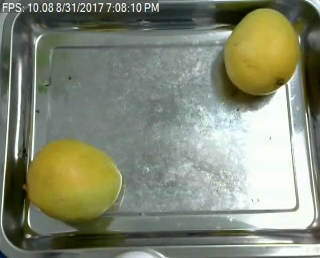Mango: (23, 138, 123, 222), (220, 10, 301, 93)
